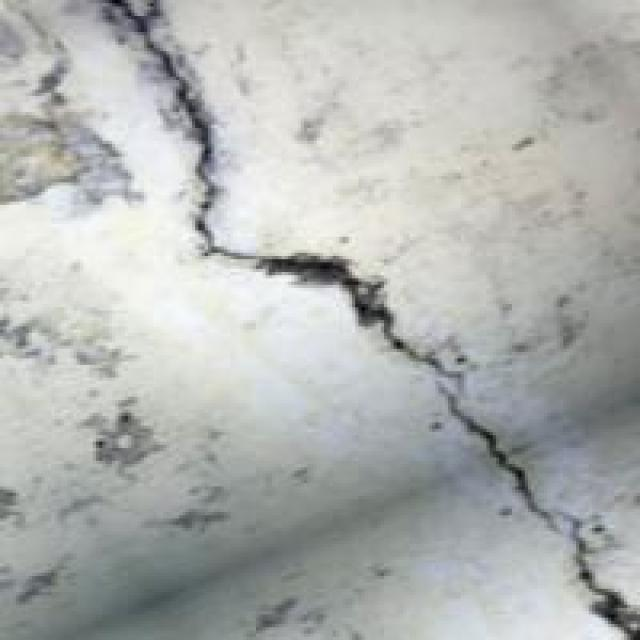Crack: (96, 3, 637, 637)
